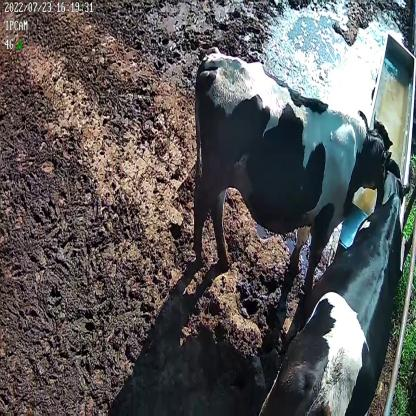cow: (192, 52, 393, 298), (260, 157, 410, 416)
